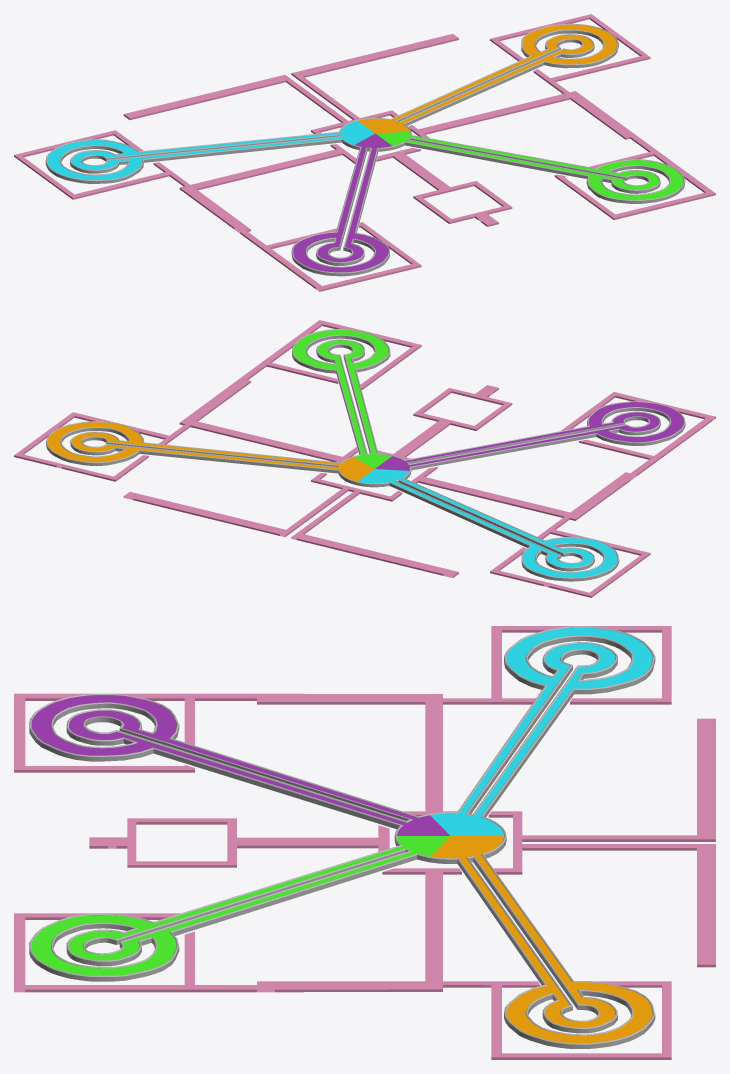
File: D1Blocking_Small.fbx
3 views of the same model, one above another, from view 1: azimuth 30°, elevation 25°; view 2: azimuth 150°, elevation 25°; view 3: azimuth 270°, elevation 25° (orthographic). The views are drawn at different scales.
Visible parts, largest first — view 1: Roads, River, Riverside; view 2: Roads, River, Riverside; view 3: Roads, River, Riverside.
Boxes of the visible parts, x1,y1,x2,y2 form: Roads: [14, 14, 715, 291]; River: [47, 24, 683, 272]; Riverside: [45, 23, 685, 276]; Roads: [14, 320, 715, 597]; River: [47, 330, 683, 577]; Riverside: [46, 329, 685, 581]; Roads: [14, 626, 715, 1059]; River: [31, 627, 652, 1043]; Riverside: [29, 626, 655, 1048].
Bounding box in the file's own units: 87071 × 868 × 59925.
